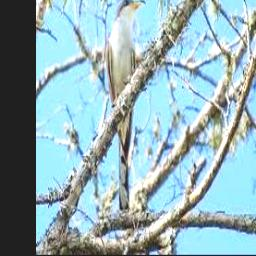Cuckoo: (105, 0, 144, 218)
